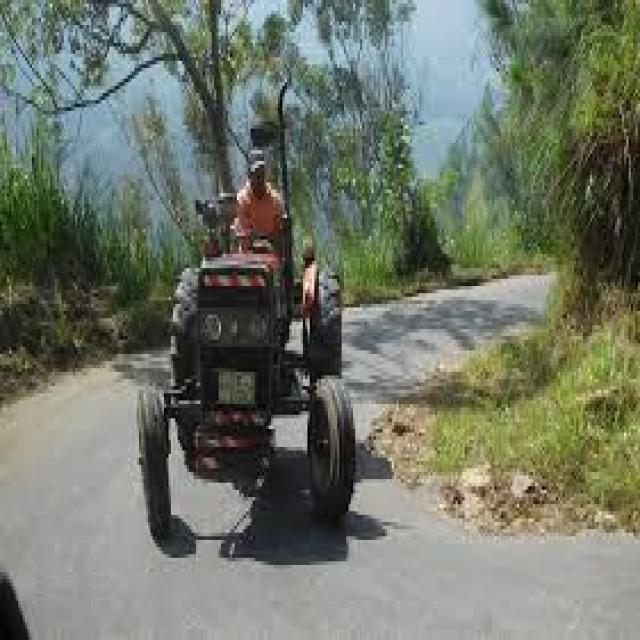person: (235, 150, 280, 250)
tractor: (139, 168, 353, 540)
